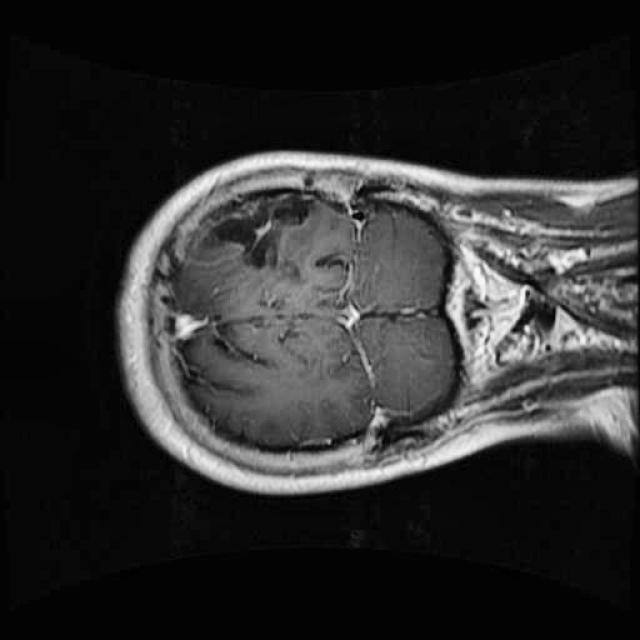Non-Tumor: (194, 182, 335, 280)
